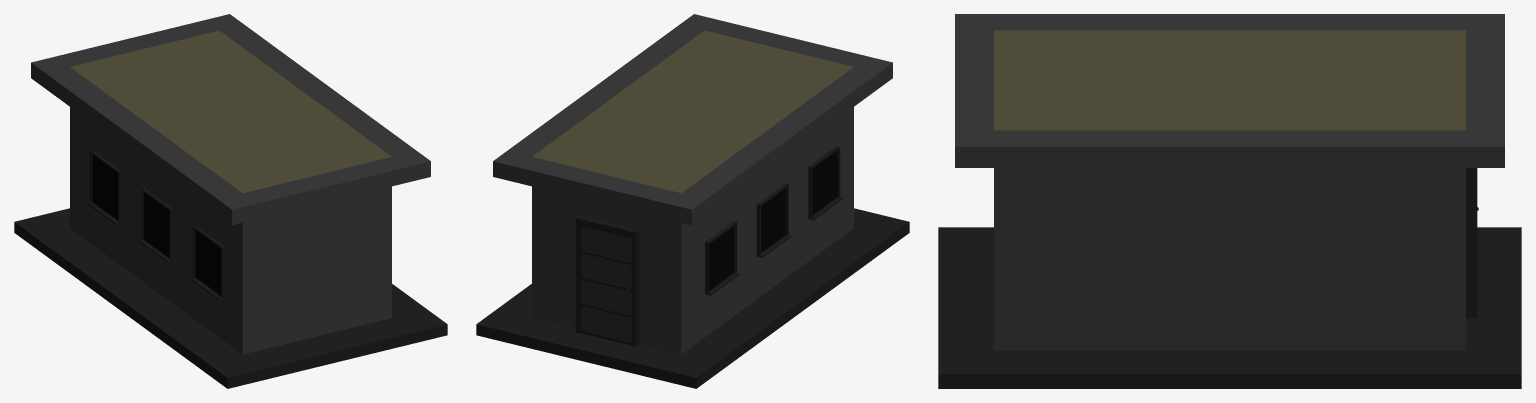
File: SM_reception.FBX
The picture shows the model from 3 angles, left to right: view 1: azimuth 30°, elevation 25°; view 2: azimuth 150°, elevation 25°; view 3: azimuth 270°, elevation 25°; orthographic projection. The views are drawn at different scales.
Visible parts, largest first — view 1: reception; view 2: reception; view 3: reception.
Boxes of the visible parts, x1,y1,x2,y2 form: reception: [14, 14, 447, 388]; reception: [476, 14, 909, 388]; reception: [938, 14, 1521, 388].
Bounding box in the file's own units: 441 × 330 × 741.
